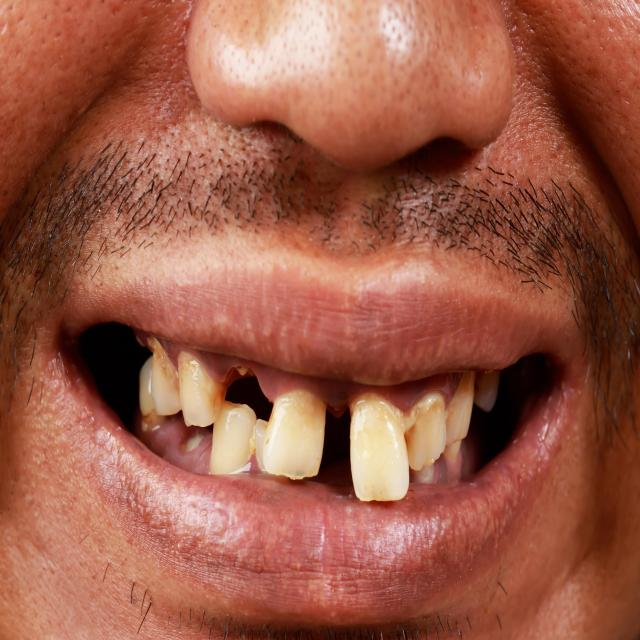Tooth: (350, 398, 409, 501), (263, 390, 326, 479), (178, 352, 227, 428), (211, 400, 257, 475), (405, 396, 446, 471), (445, 369, 476, 445), (151, 353, 182, 415), (473, 370, 500, 411), (139, 356, 155, 416), (255, 418, 268, 470)
